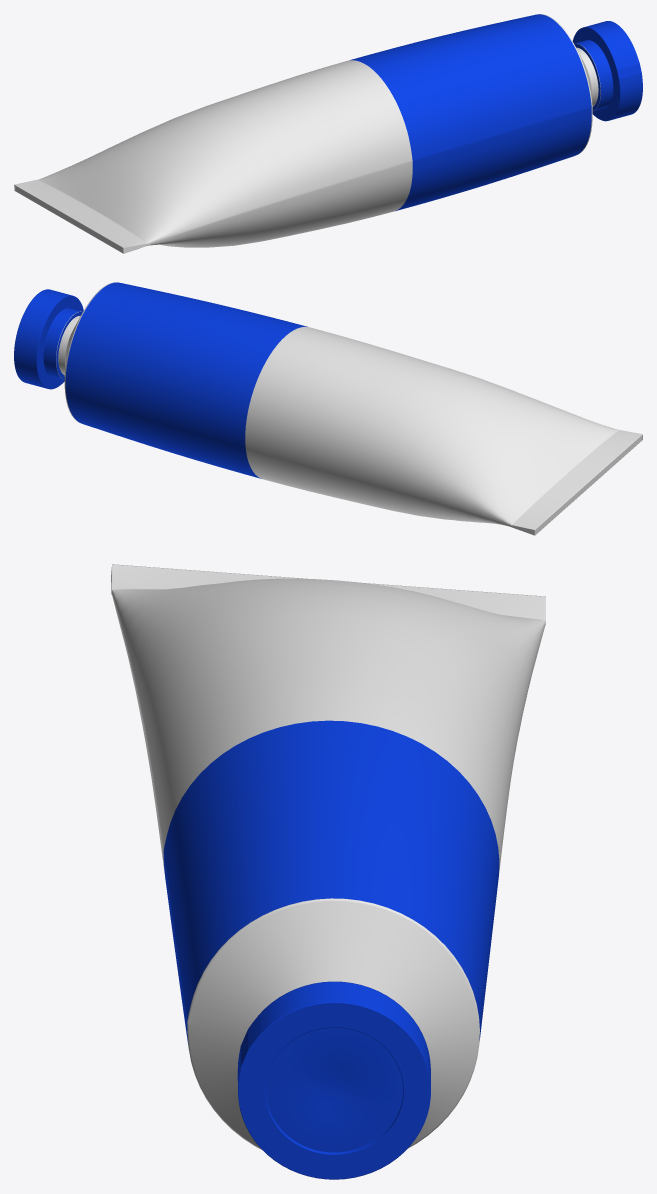
Rendered from PaintingTube.fbx.
3 renders of one model, top to bottom at view 1: azimuth 30°, elevation 25°; view 2: azimuth 150°, elevation 25°; view 3: azimuth 270°, elevation 25°, orthographic. The views are drawn at different scales.
Visible parts, largest first — view 1: Painting tube; view 2: Painting tube; view 3: Painting tube.
Part boxes in pixels (box(x1,y1,x2,y2)): Painting tube: box(14, 14, 642, 253); Painting tube: box(14, 282, 642, 535); Painting tube: box(111, 564, 545, 1179).
Bounding box in the file's own units: 30.02 × 7.45 × 10.26.
